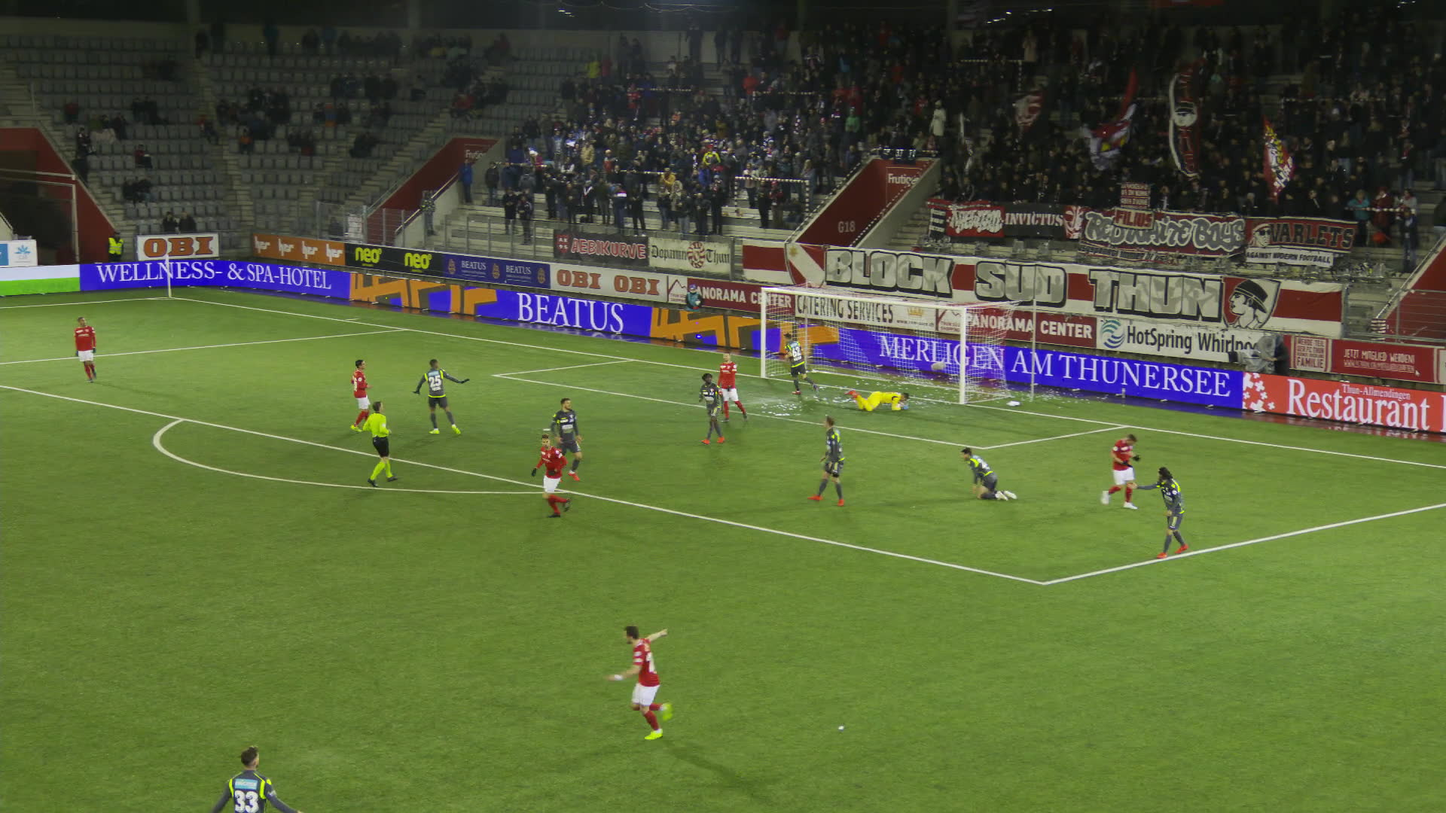ball: (895, 401, 901, 408)
goalkeeper: (839, 389, 906, 411)
player: (619, 622, 686, 739), (206, 745, 307, 812), (1126, 465, 1188, 557), (410, 359, 467, 437), (532, 435, 576, 519), (801, 420, 843, 507), (1092, 433, 1138, 510), (542, 397, 580, 480), (956, 447, 1013, 501), (715, 351, 746, 422), (782, 333, 816, 395), (349, 357, 374, 431), (697, 370, 722, 444), (70, 316, 93, 382)
referee: (362, 400, 399, 486)
